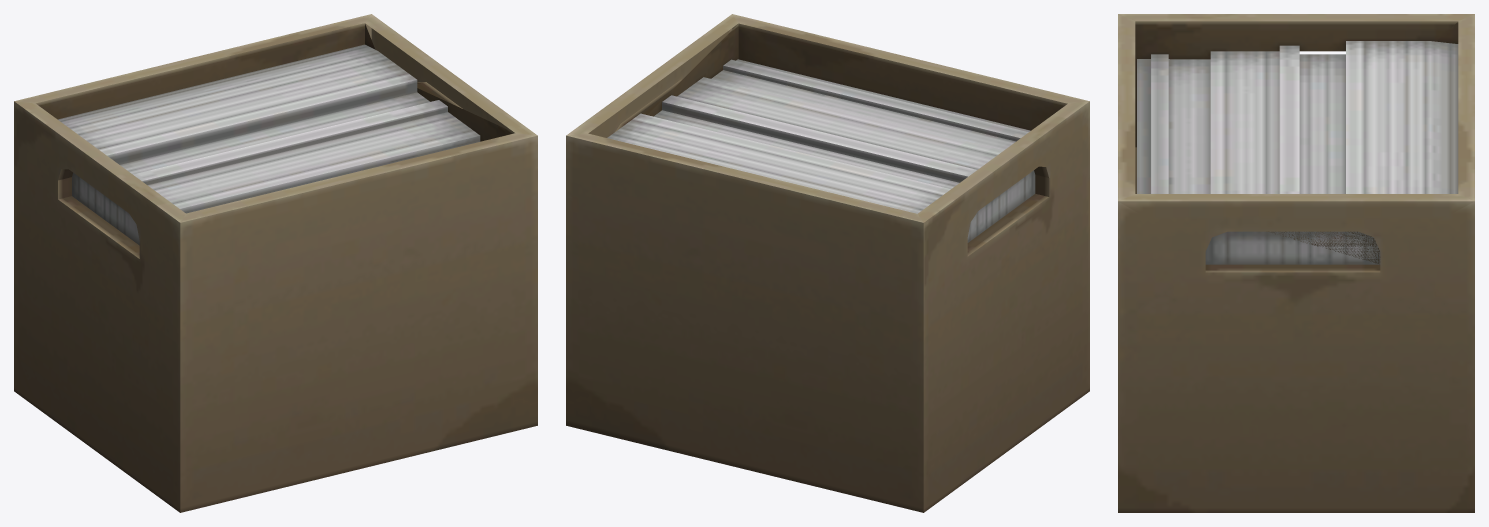
File: book box.fbx
3 views of the same model, side by side, from view 1: azimuth 30°, elevation 25°; view 2: azimuth 150°, elevation 25°; view 3: azimuth 270°, elevation 25° (orthographic). The views are drawn at different scales.
Parts seen in each view (by area): view 1: skp4C78_1; view 2: skp4C78_1; view 3: skp4C78_1.
Boxes of the visible parts, x1,y1,x2,y2 form: skp4C78_1: (14,14,537,512); skp4C78_1: (566,14,1089,512); skp4C78_1: (1118,14,1474,512).
Bounding box in the file's own units: 4.36 × 3.38 × 3.51.
